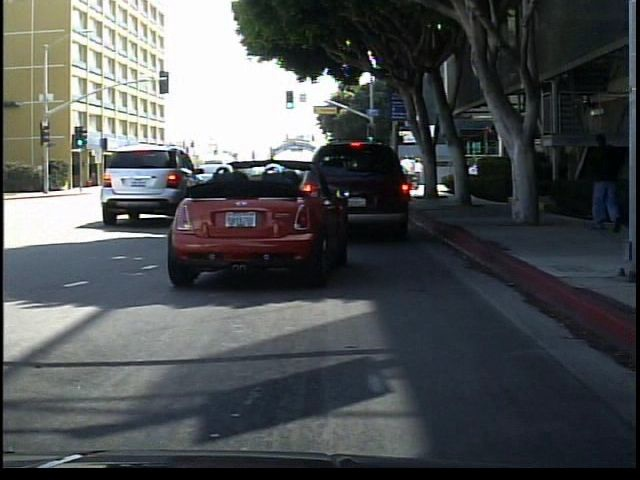person: (583, 129, 626, 235), (513, 143, 544, 224)
